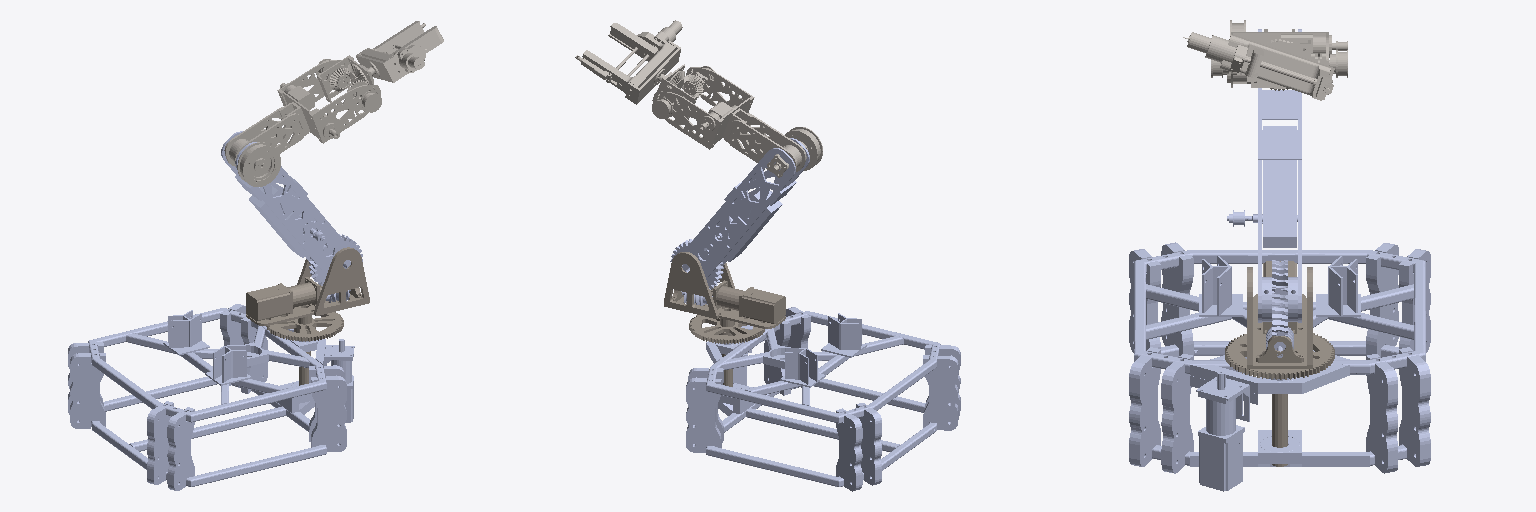
robot.urdf — ARMDIFF1:
<?xml version="1.0" encoding="utf-8"?>
<!-- This URDF was automatically created by SolidWorks to URDF Exporter! Originally created by [author] ([email redacted]) 
     Commit Version: 1.6.0-4-g7f85cfe  Build Version: 1.6.7995.38578
     For more information, please see http://wiki.ros.org/sw_urdf_exporter -->
<robot
  name="ARMDIFF1">
  <link
    name="base_link">
    <inertial>
      <origin
        xyz="0.0795442121036043 -0.01602443169647 0.107180848378148"
        rpy="0 0 0" />
      <mass
        value="4.11154835831467" />
      <inertia
        ixx="0.0151957167711445"
        ixy="-0.00058927143497402"
        ixz="-0.000298460614750611"
        iyy="0.0134803403027814"
        iyz="-0.00168386916840312"
        izz="0.0113625096671542" />
    </inertial>
    <visual>
      <origin
        xyz="0 0 0"
        rpy="0 0 0" />
      <geometry>
        <mesh
          filename="package://meshes/base_link.STL" />
      </geometry>
      <material
        name="">
        <color
          rgba="0.792156862745098 0.819607843137255 0.933333333333333 1" />
      </material>
    </visual>
    <collision>
      <origin
        xyz="0 0 0"
        rpy="0 0 0" />
      <geometry>
        <mesh
          filename="package://meshes/base_link.STL" />
      </geometry>
    </collision>
  </link>
  <link
    name="turntable">
    <inertial>
      <origin
        xyz="9.13023923239109E-05 -0.0024056012967886 0.0100116131683335"
        rpy="0 0 0" />
      <mass
        value="2.52870378509003" />
      <inertia
        ixx="0.00448778718654028"
        ixy="-3.74233803322155E-08"
        ixz="-2.37268083054849E-05"
        iyy="0.00678974002353009"
        iyz="-1.09235876004421E-08"
        izz="0.00929271252291499" />
    </inertial>
    <visual>
      <origin
        xyz="0 0 0"
        rpy="0 0 0" />
      <geometry>
        <mesh
          filename="package://meshes/turntable.STL" />
      </geometry>
      <material
        name="">
        <color
          rgba="0.650980392156863 0.619607843137255 0.588235294117647 1" />
      </material>
    </visual>
    <collision>
      <origin
        xyz="0 0 0"
        rpy="0 0 0" />
      <geometry>
        <mesh
          filename="package://ARMDIFF1/meshes/turntable.STL" />
      </geometry>
    </collision>
  </link>
  <joint
    name="turntable_joint"
    type="revolute">
    <origin
      xyz="0.26745 0 0.232"
      rpy="0 0 0" />
    <parent
      link="base_link" />
    <child
      link="turntable" />
    <axis
      xyz="0 0 1" />
    <limit
      lower="-3.0"
      upper="3.0"
      effort="0"
      velocity="0" />
  </joint>
  <link
    name="linkOne">
    <inertial>
      <origin
        xyz="-0.100244542613256 -0.00176534936583775 0.124385039632063"
        rpy="0 0 0" />
      <mass
        value="2.68487318801417" />
      <inertia
        ixx="0.0174932605405339"
        ixy="5.76960908171894E-07"
        ixz="0.0116641990704758"
        iyy="0.0276242896685043"
        iyz="4.2094107731542E-08"
        izz="0.0109262195664435" />
    </inertial>
    <visual>
      <origin
        xyz="0 0 0"
        rpy="0 0 0" />
      <geometry>
        <mesh
          filename="package://meshes/linkOne.STL" />
      </geometry>
      <material
        name="">
        <color
          rgba="0.792156862745098 0.819607843137255 0.933333333333333 1" />
      </material>
    </visual>
    <collision>
      <origin
        xyz="0 0 0"
        rpy="0 0 0" />
      <geometry>
        <mesh
          filename="package://meshes/linkOne.STL" />
      </geometry>
    </collision>
  </link>
  <joint
    name="linkOneJoint"
    type="revolute">
    <origin
      xyz="0.08505 0 0.13572"
      rpy="0 0 0" />
    <parent
      link="turntable" />
    <child
      link="linkOne" />
    <axis
      xyz="0 -1 0" />
    <limit
      lower="-2.5"
      upper="0.6"
      effort="0"
      velocity="0" />
  </joint>
  <link
    name="linkTwo">
    <inertial>
      <origin
        xyz="0.0829188073622378 -0.022174801138641 0.0322356415874625"
        rpy="0 0 0" />
      <mass
        value="1.78349088911356" />
      <inertia
        ixx="0.00151844421857204"
        ixy="7.54457992448709E-07"
        ixz="-0.000565340337418598"
        iyy="0.00318746407278275"
        iyz="-2.00635640821411E-06"
        izz="0.0027849032727184" />
    </inertial>
    <visual>
      <origin
        xyz="0 0 0"
        rpy="0 0 0" />
      <geometry>
        <mesh
          filename="package://meshes/linkTwo.STL" />
      </geometry>
      <material
        name="">
        <color
          rgba="0.776470588235294 0.756862745098039 0.737254901960784 1" />
      </material>
    </visual>
    <collision>
      <origin
        xyz="0 0 0"
        rpy="0 0 0" />
      <geometry>
        <mesh
          filename="package://meshes/linkTwo.STL" />
      </geometry>
    </collision>
  </link>
  <joint
    name="linkTwoJoint"
    type="revolute">
    <origin
      xyz="-0.25101 0.0036996 0.34296"
      rpy="0 0 0" />
    <parent
      link="linkOne" />
    <child
      link="linkTwo" />
    <axis
      xyz="0 1 0" />
    <limit
      lower="-4"
      upper="0.6"
      effort="0"
      velocity="0" />
  </joint>
  <link
    name="pitch">
    <inertial>
      <origin
        xyz="-0.000115911516902711 0.00776673541874512 -4.42977706646142E-05"
        rpy="0 0 0" />
      <mass
        value="0.206798859444493" />
      <inertia
        ixx="5.74902620618589E-05"
        ixy="-2.37424501388743E-08"
        ixz="-7.33196242264036E-06"
        iyy="9.89143840163847E-05"
        iyz="4.01210406354253E-08"
        izz="7.38733335173996E-05" />
    </inertial>
    <visual>
      <origin
        xyz="0 0 0"
        rpy="0 0 0" />
      <geometry>
        <mesh
          filename="package://meshes/pitch.STL" />
      </geometry>
      <material
        name="">
        <color
          rgba="0.776470588235294 0.756862745098039 0.737254901960784 1" />
      </material>
    </visual>
    <collision>
      <origin
        xyz="0 0 0"
        rpy="0 0 0" />
      <geometry>
        <mesh
          filename="package://meshes/pitch.STL" />
      </geometry>
    </collision>
  </link>
  <joint
    name="pitchJoint"
    type="revolute">
    <origin
      xyz="0.28763 -0.0039432 0.11154"
      rpy="0 0 0" />
    <parent
      link="linkTwo" />
    <child
      link="pitch" />
    <axis
      xyz="0 1 0" />
    <limit
      lower="-2"
      upper="2"
      effort="0"
      velocity="0" />
  </joint>
  <link
    name="roll">
    <inertial>
      <origin
        xyz="0.0865388873770818 -0.0133164952167475 0.0377304445159068"
        rpy="0 0 0" />
      <mass
        value="0.720629967020805" />
      <inertia
        ixx="0.000806933187324885"
        ixy="-9.75432938339153E-05"
        ixz="-0.000104834105042124"
        iyy="0.000760196565718267"
        iyz="0.000105587547262329"
        izz="0.00109285799787045" />
    </inertial>
    <visual>
      <origin
        xyz="0 0 0"
        rpy="0 0 0" />
      <geometry>
        <mesh
          filename="package://meshes/roll.STL" />
      </geometry>
      <material
        name="">
        <color
          rgba="0.776470588235294 0.756862745098039 0.737254901960784 1" />
      </material>
    </visual>
    <collision>
      <origin
        xyz="0 0 0"
        rpy="0 0 0" />
      <geometry>
        <mesh
          filename="package://meshes/roll.STL" />
      </geometry>
    </collision>
  </link>
  <joint
    name="rollJoint"
    type="revolute">
    <origin
      xyz="0.017053 0 0.0065172"
      rpy="0 0 0" />
    <parent
      link="pitch" />
    <child
      link="roll" />
    <axis
      xyz="0.93411 0 0.35699" />
    <limit
      lower="-4"
      upper="4"
      effort="0"
      velocity="0" />
  </joint>
</robot>

--- What the picture shows (computed from the rendered views, not written in the file) ---
Views: 3 orthographic renders of the robot side by side, from view 1: azimuth 30°, elevation 25°; view 2: azimuth 150°, elevation 25°; view 3: azimuth 270°, elevation 25°.
Model ARMDIFF1 with 6 links and 5 joints (5 revolute), rooted at base_link, posed all joints at 0.
Links seen in each view (by area): view 1: base_link, linkTwo, turntable, linkOne, roll, pitch; view 2: base_link, linkTwo, turntable, linkOne, roll, pitch; view 3: base_link, linkOne, turntable, roll, linkTwo, pitch.
Link boxes in pixels (x1,y1,x2,y2): base_link: (68, 304, 354, 490); linkTwo: (224, 60, 380, 186); turntable: (246, 247, 369, 385); linkOne: (221, 131, 362, 302); roll: (348, 21, 443, 84); pitch: (317, 55, 381, 112); base_link: (686, 307, 960, 491); linkTwo: (652, 67, 822, 177); turntable: (664, 252, 785, 386); linkOne: (670, 138, 809, 305); roll: (575, 20, 684, 104); pitch: (652, 66, 714, 119); base_link: (1129, 242, 1430, 491); linkOne: (1227, 29, 1301, 357); turntable: (1225, 261, 1334, 466); roll: (1183, 32, 1334, 100); linkTwo: (1223, 20, 1347, 87); pitch: (1211, 40, 1347, 81).
Size in the robot's own frame: 0.9163 by 0.5075 by 0.9421 metres.
Meshes: 6 distinct files referenced, 6 mesh visuals loaded (6 binary STL).